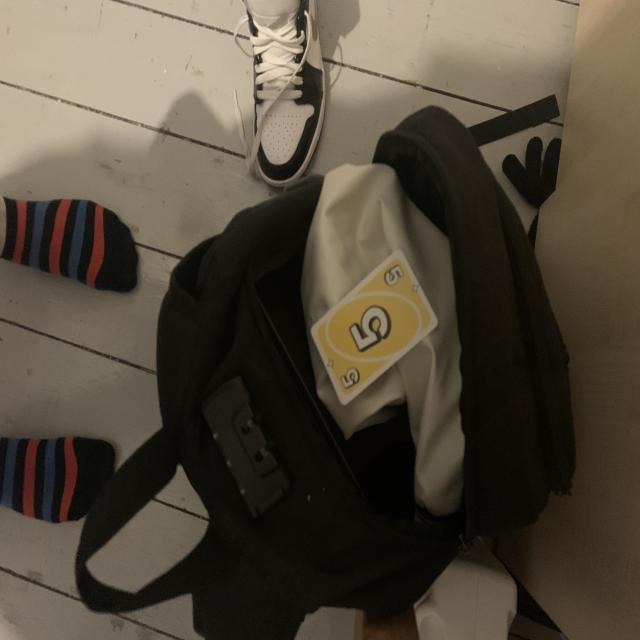lyellow-5: (382, 262, 406, 290)
